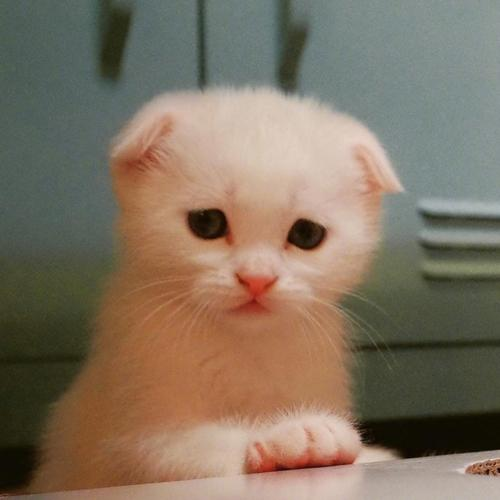cat: (111, 91, 405, 332)
